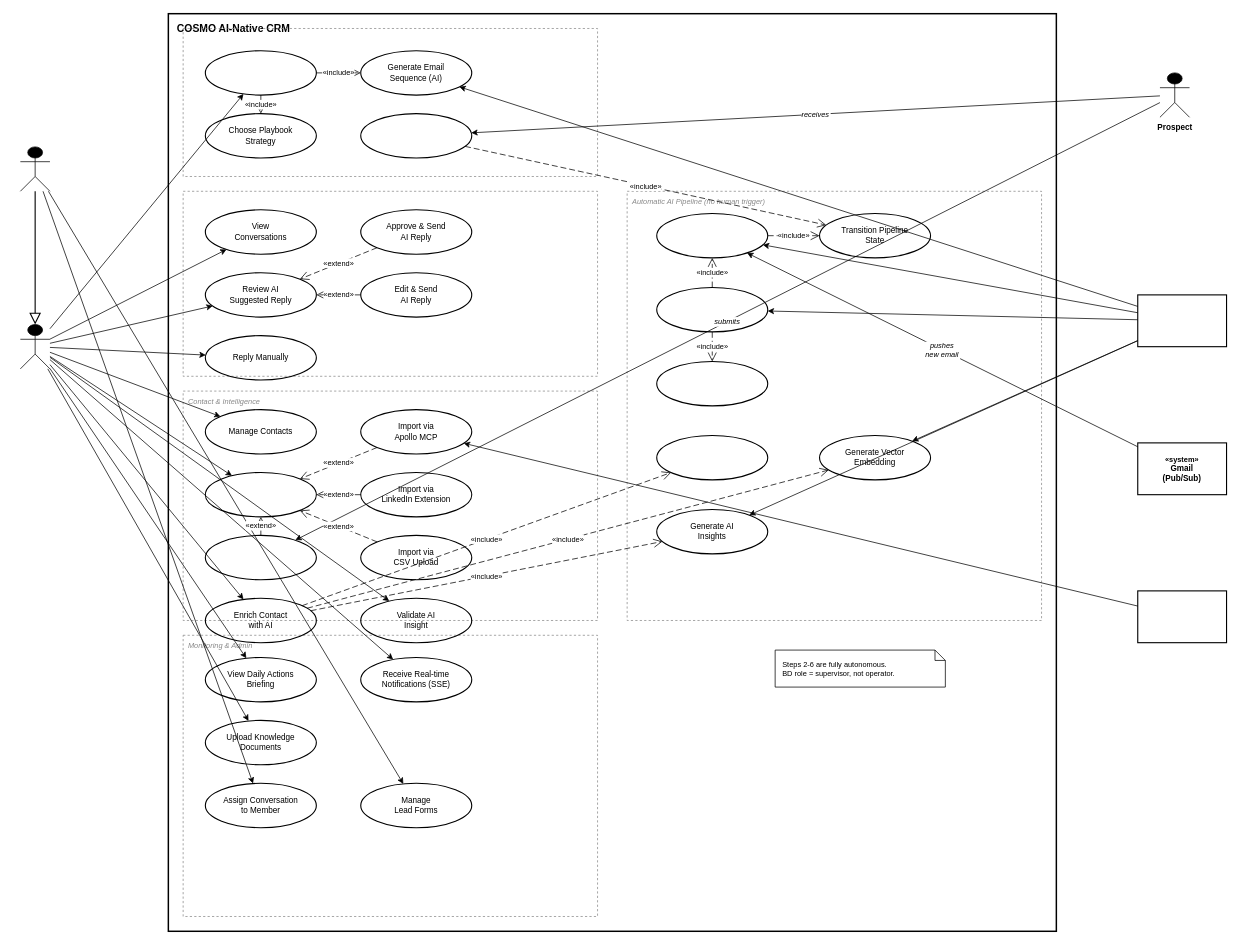
Image size: 1240x944. Some labels were removed from this diagram. Here are the shapes that lost their labels. From the top down, the box of each, then its label:
(204, 50, 317, 95): Create Campaign
(182, 28, 598, 176): Campaign & Outreach
(360, 113, 472, 158): Send Campaign Emails
(20, 146, 50, 191): Admin
(656, 213, 768, 258): Classify Reply Intent
(182, 191, 598, 376): AI Inbox & Reply (human-in-the-loop)
(656, 287, 768, 332): Generate AI Draft Reply
(1137, 294, 1227, 347): «system» LLM Service (OpenAI)
(20, 324, 50, 369): BD (Sales Rep)
(656, 361, 768, 406): Retrieve Knowledge (RAG)
(656, 435, 768, 480): Calculate Segment Scores
(204, 472, 317, 517): Import Contacts
(204, 535, 317, 580): Capture via Lead Form
(1137, 590, 1227, 643): «system» Apollo API (MCP)
